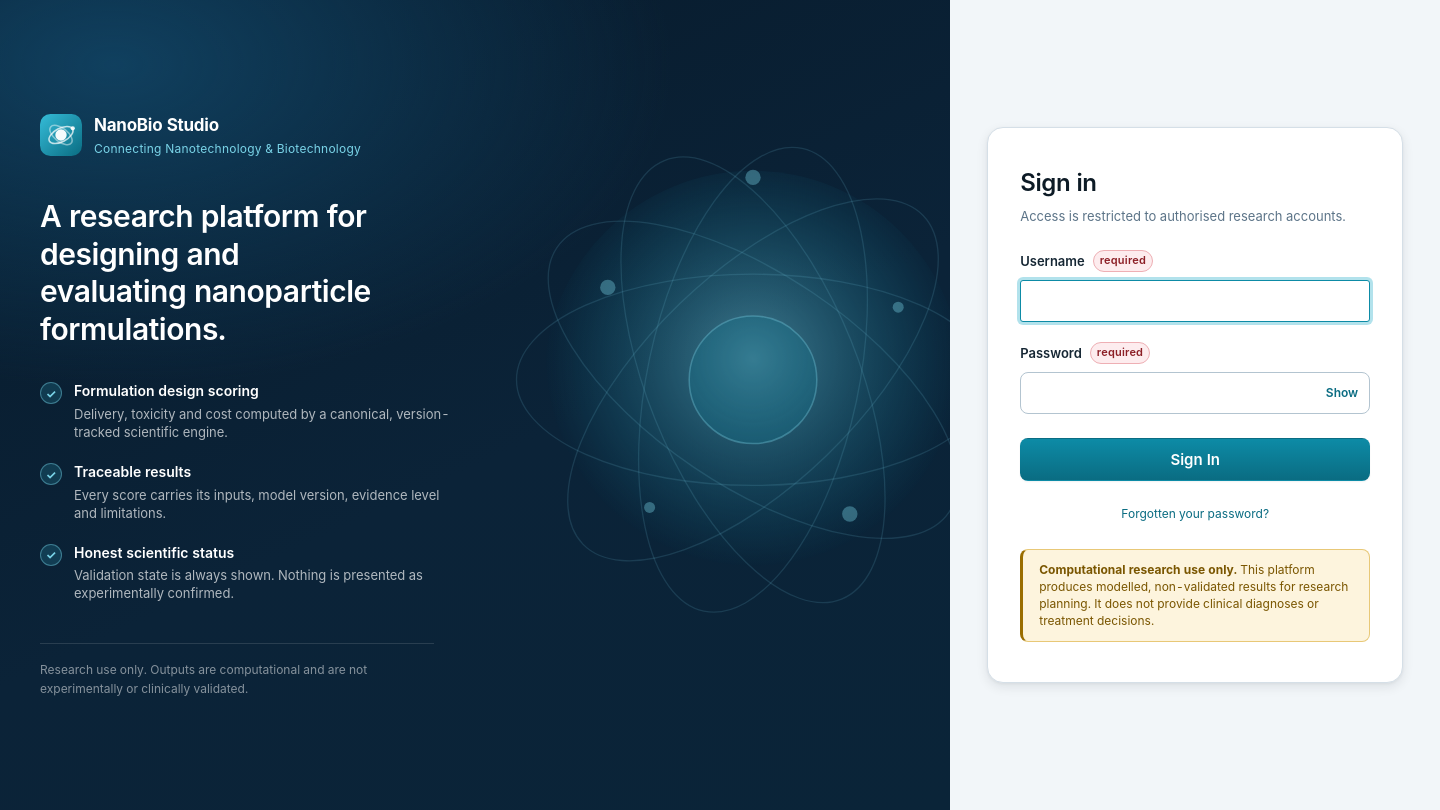
login › reports an unavailable API distinctly
Expected: the heading "Sign in" is shown, [1020, 168, 1097, 196]
In the field labelled "Username": coordinates (1195, 301) [1020, 280, 1370, 322], type "admin"
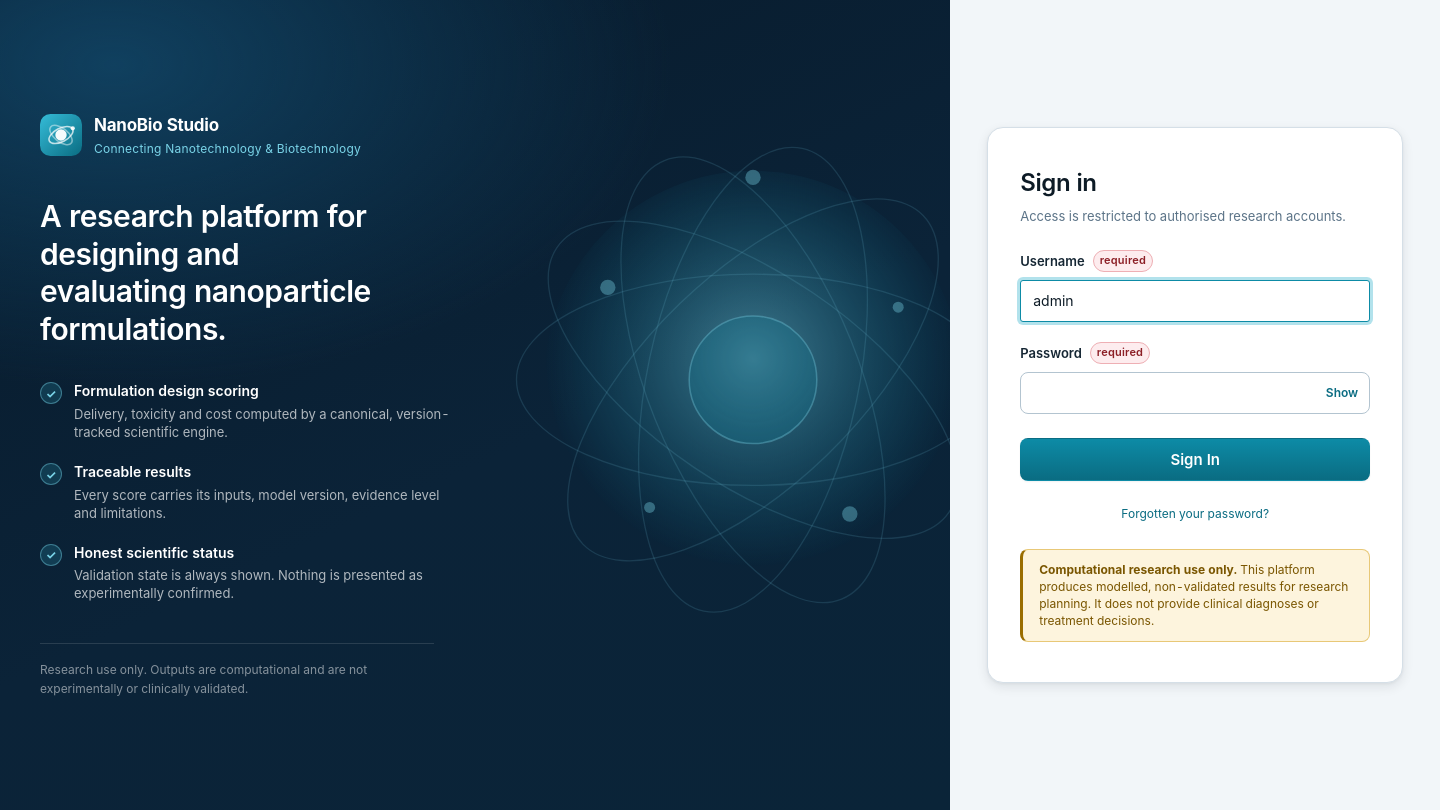
In the password field labelled "Password": coordinates (1195, 393) [1020, 372, 1370, 414], type "x"
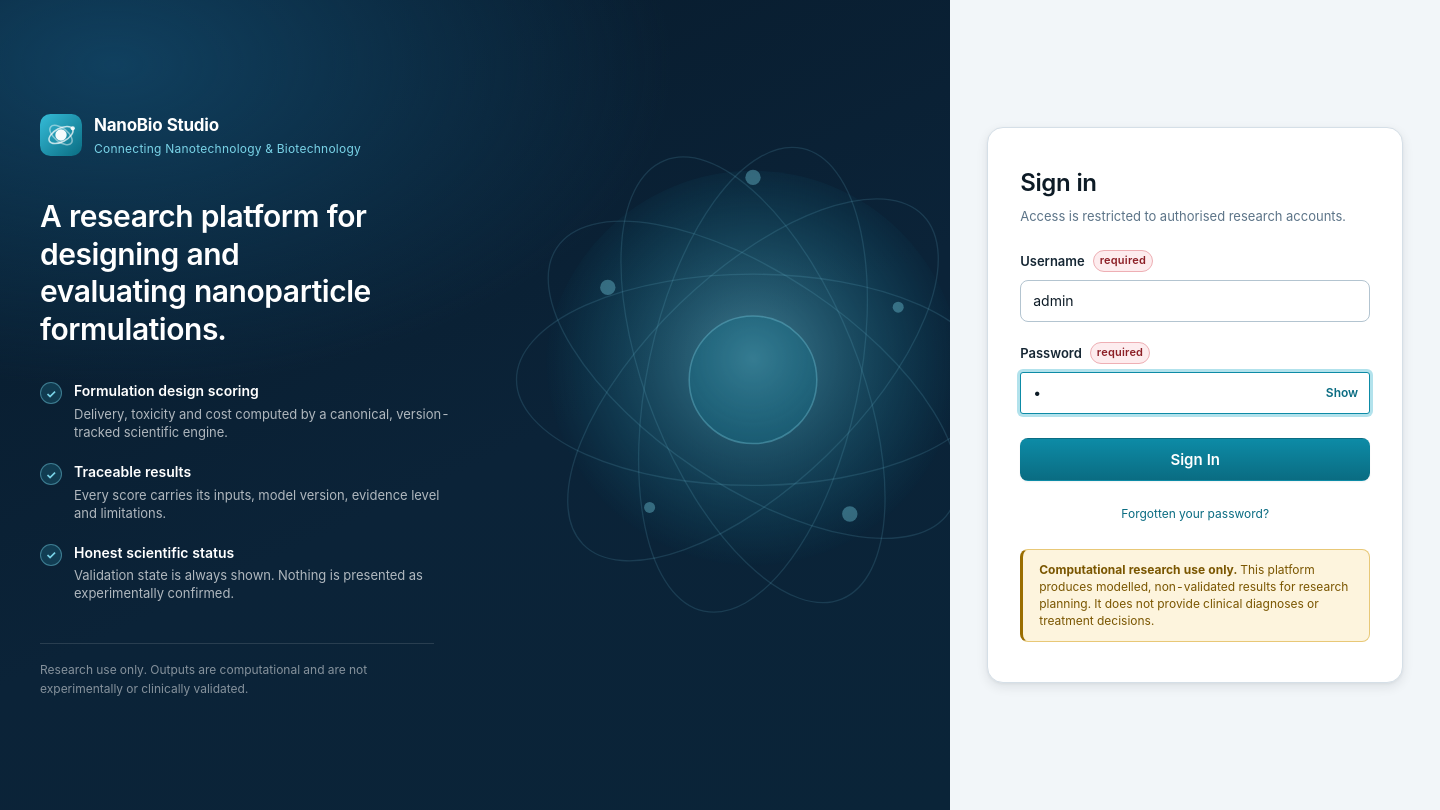
Click the button "Sign In": coordinates (1195, 460) [1020, 438, 1370, 481]
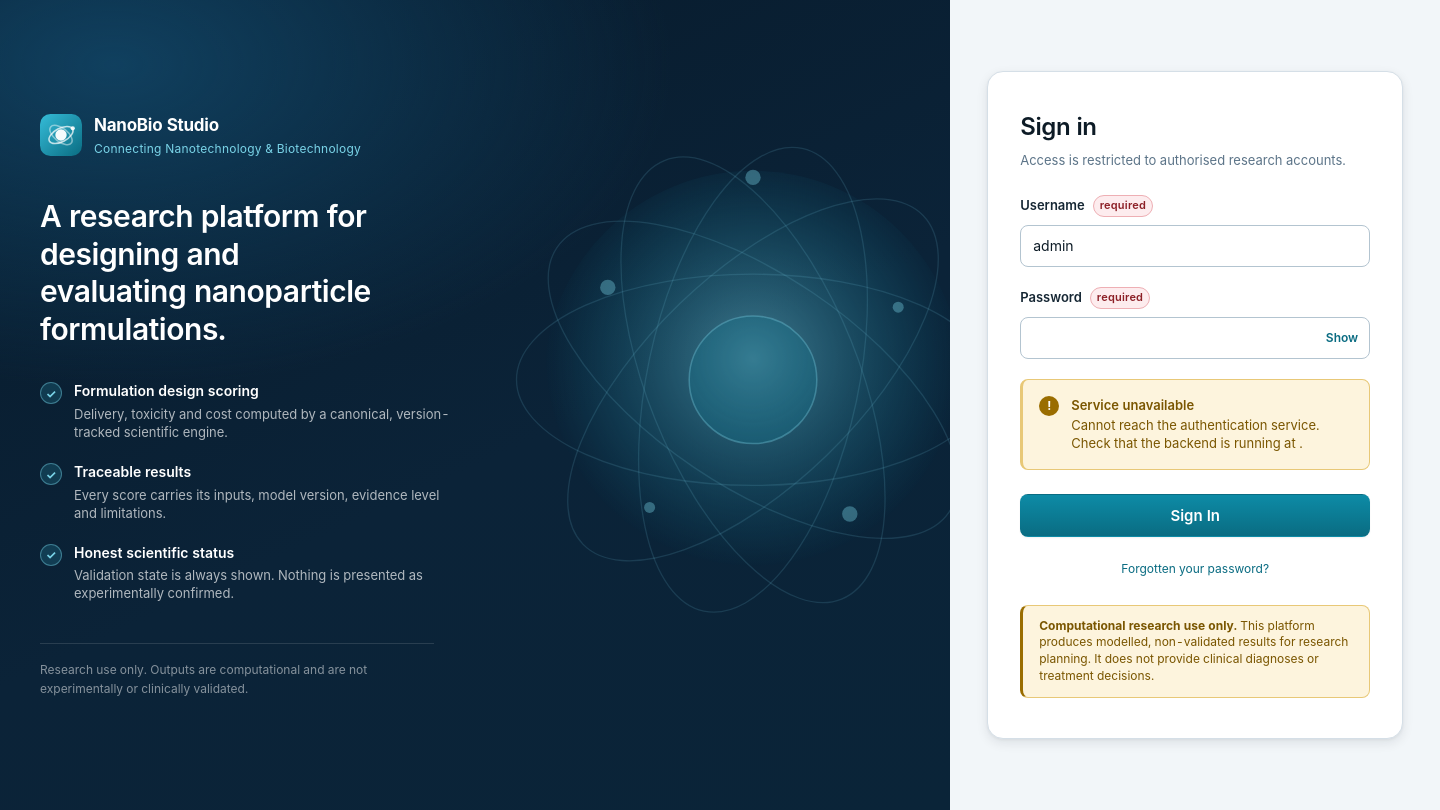
Expected: the element with test id "auth-error" shows "Cannot reach the authentication service", [1071, 417, 1320, 451]
